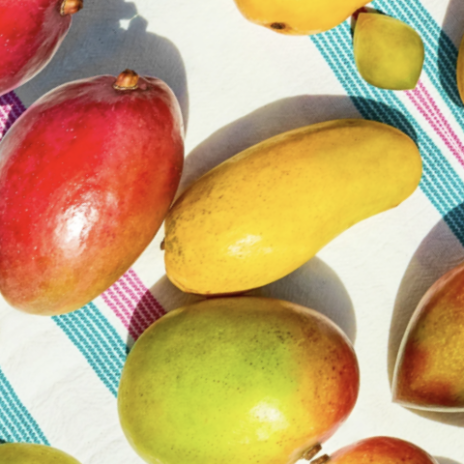mango: (104, 42, 461, 362), (0, 0, 290, 359), (60, 200, 433, 464)
